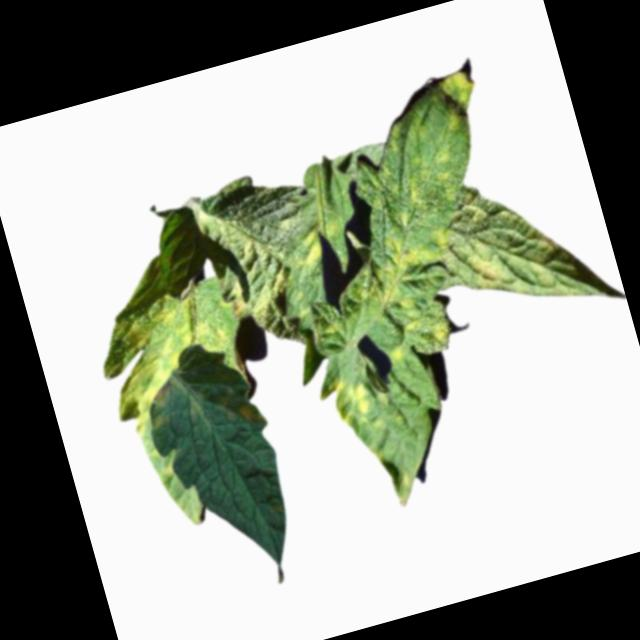Leaf_Mold: (89, 276, 267, 439), (358, 216, 467, 309), (319, 365, 379, 435), (384, 309, 455, 364), (436, 64, 483, 118), (286, 227, 328, 271), (469, 256, 509, 295)
